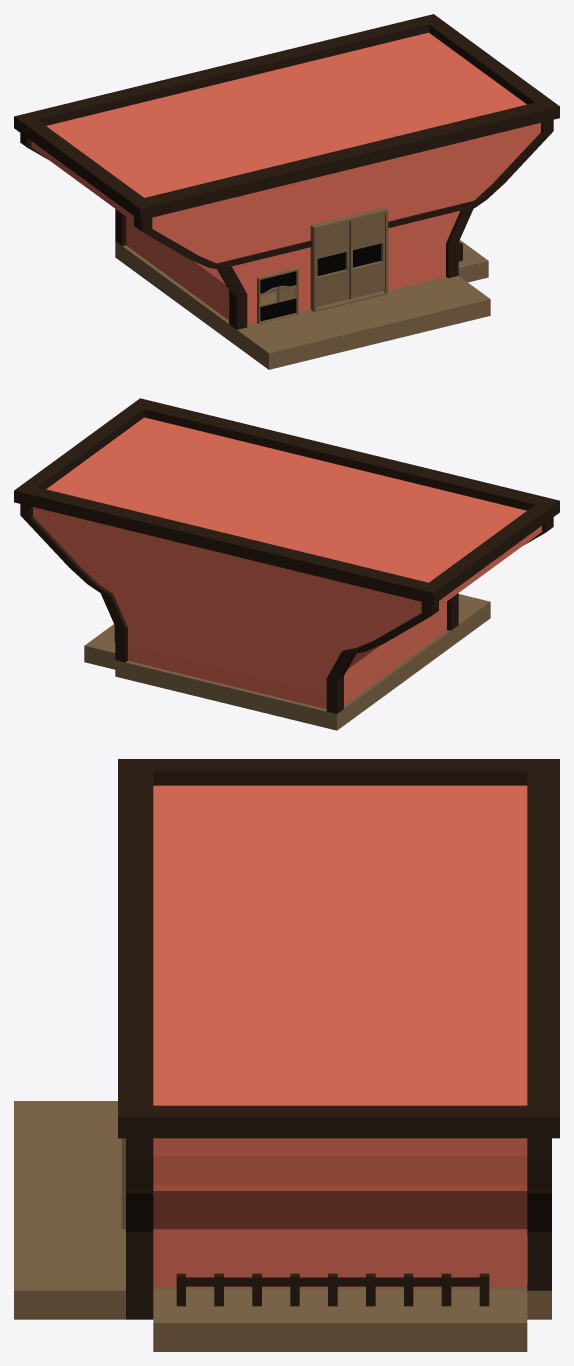
Rendered from Barn.fbx.
3 views of the same model, one above another, from view 1: azimuth 30°, elevation 25°; view 2: azimuth 150°, elevation 25°; view 3: azimuth 270°, elevation 25° (orthographic). The views are drawn at different scales.
Visible parts, largest first — view 1: Cube, Cube.005, Plane.001, Plane, Cube.002; view 2: Cube; view 3: Cube, Cube.004.
Boxes of the visible parts, <box> form: Cube: <box>14,14,559,369</box>; Cube.005: <box>310,207,388,311</box>; Plane.001: <box>317,243,380,298</box>; Plane: <box>260,271,295,321</box>; Cube.002: <box>257,268,298,324</box>; Cube: <box>14,398,559,730</box>; Cube: <box>14,759,559,1351</box>; Cube.004: <box>176,1273,479,1306</box>.
Bounding box in the file's own units: 5300 × 1973 × 3409.
